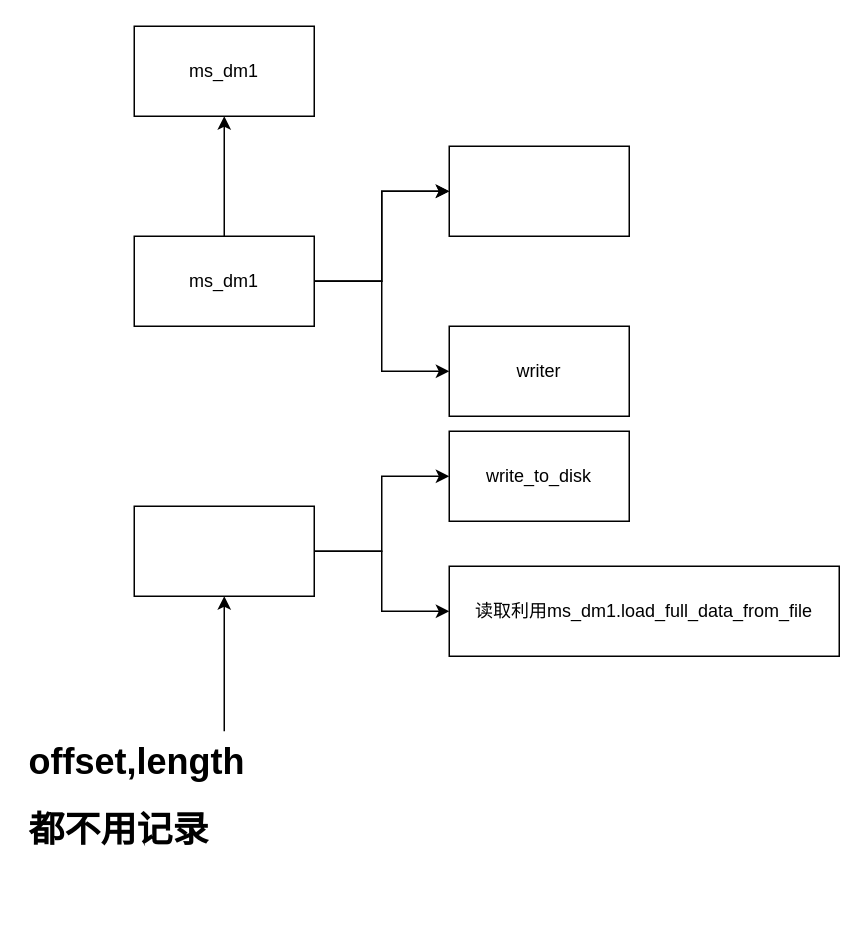
This 866x942 diagram has some shape labels left out. The shapes that lost their labels are listed below. From the top down, each one's centre as x and y in pixels, then its label:
point (538, 190): filepath
point (223, 550): spectrum
